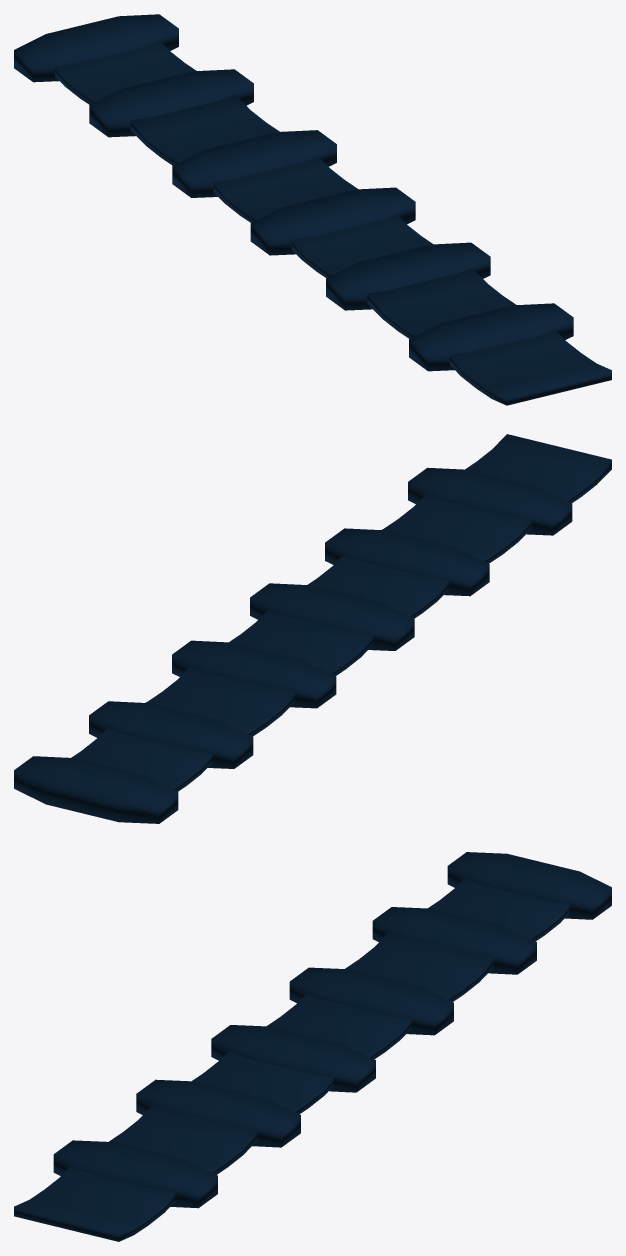
Rendered from wallPatternfbx.fbx.
3 views of the same model, one above another, from view 1: azimuth 30°, elevation 25°; view 2: azimuth 150°, elevation 25°; view 3: azimuth 330°, elevation 25° (orthographic).
Visible parts, largest first — view 1: Cube.011; view 2: Cube.011; view 3: Cube.011.
Boxes of the visible parts, x1,y1,x2,y2 form: Cube.011: [14, 14, 611, 405]; Cube.011: [14, 434, 611, 823]; Cube.011: [14, 852, 611, 1241].
Size of the model in its own units: 165 by 28.51 by 937.
